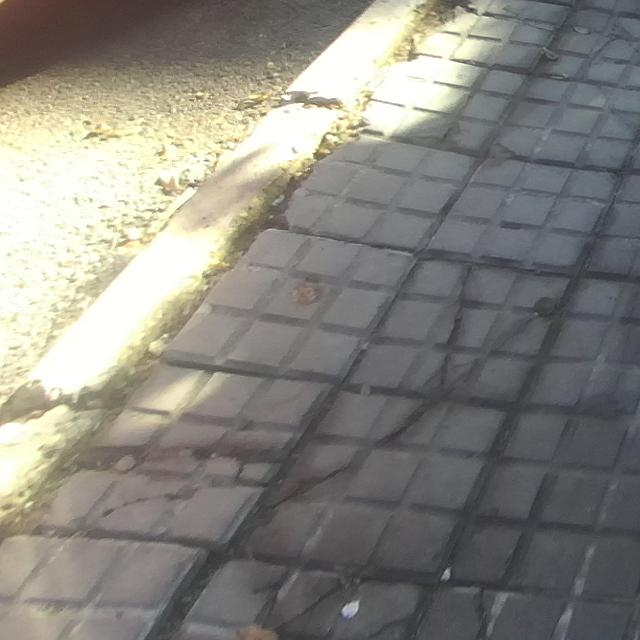calcada_quebrada: (271, 261, 551, 510), (273, 576, 347, 631), (467, 585, 494, 639), (363, 612, 415, 640)
